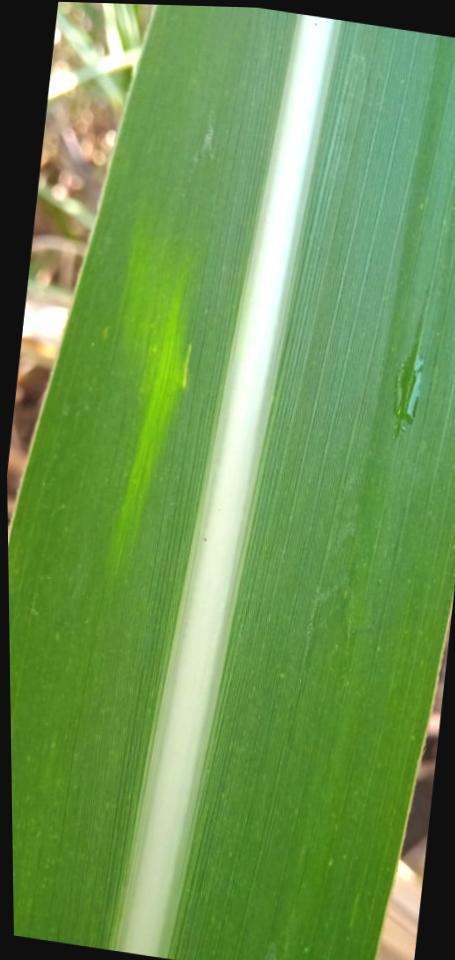Healthy: (8, 5, 455, 960)
